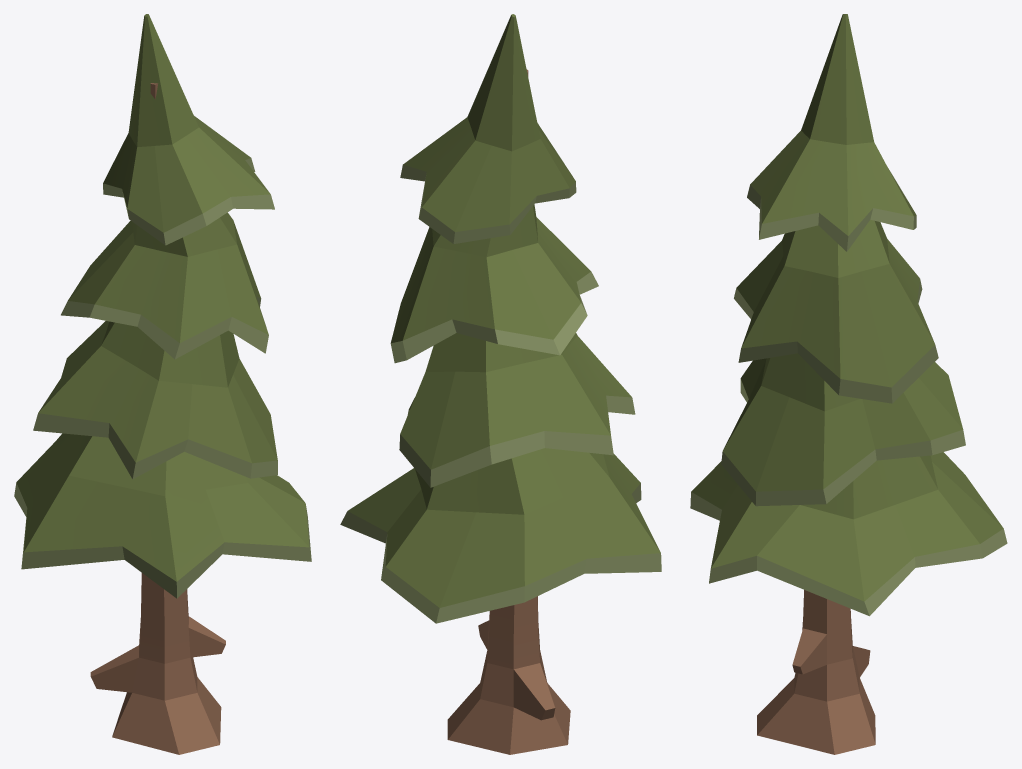
Rendered from fir_tree_32.fbx.
The picture shows the model from 3 angles, left to right: view 1: azimuth 30°, elevation 25°; view 2: azimuth 150°, elevation 25°; view 3: azimuth 270°, elevation 25°; orthographic projection. The views are drawn at different scales.
Visible parts, largest first — view 1: fir_tree_32; view 2: fir_tree_32; view 3: fir_tree_32.
Boxes of the visible parts, x1=… form: fir_tree_32: x1=14, y1=14, x2=311, y2=754; fir_tree_32: x1=340, y1=14, x2=661, y2=754; fir_tree_32: x1=690, y1=14, x2=1007, y2=754.
Bounding box in the file's own units: 272 × 629 × 256.
